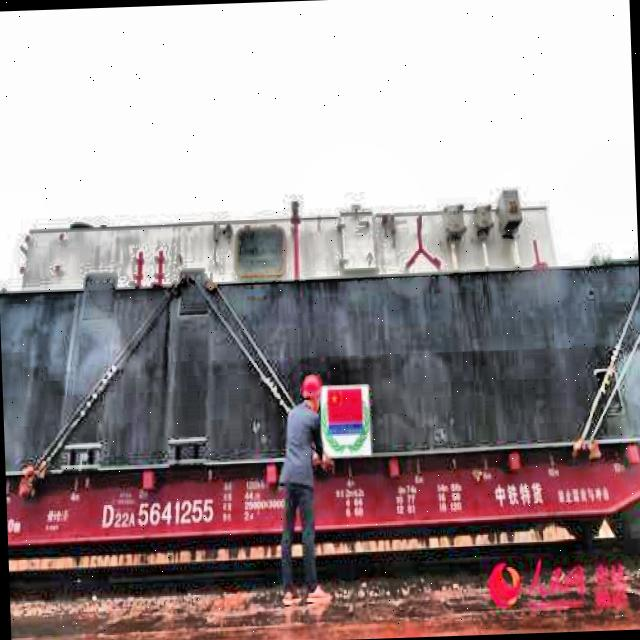helmet: (299, 372, 323, 414)
